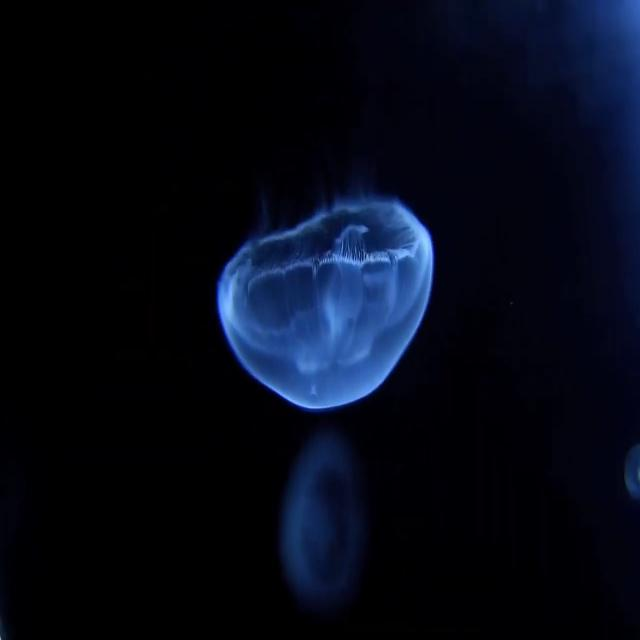Moon-jellyfish: (216, 196, 436, 416)
